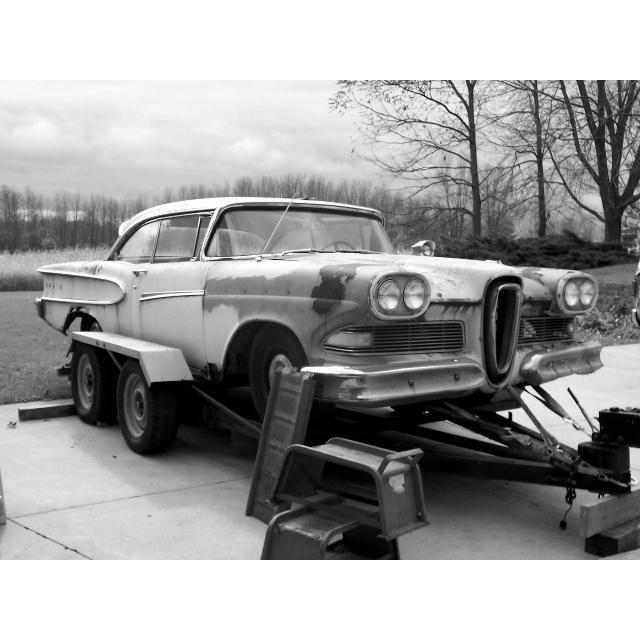bonnet-dent: (204, 248, 582, 290)
